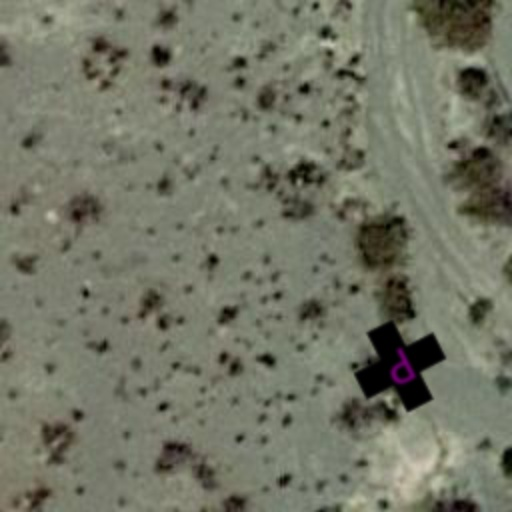cross: (338, 304, 462, 428)
